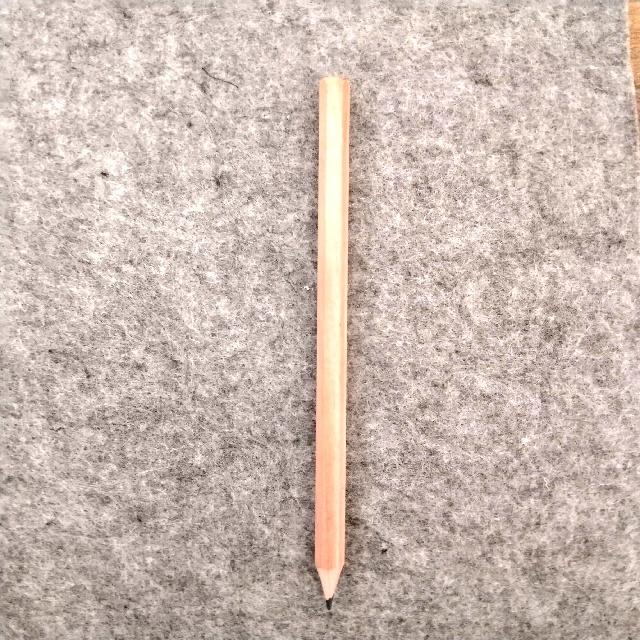pencil: (315, 77, 349, 608)
